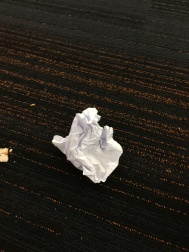paper_white: (46, 99, 144, 189)
